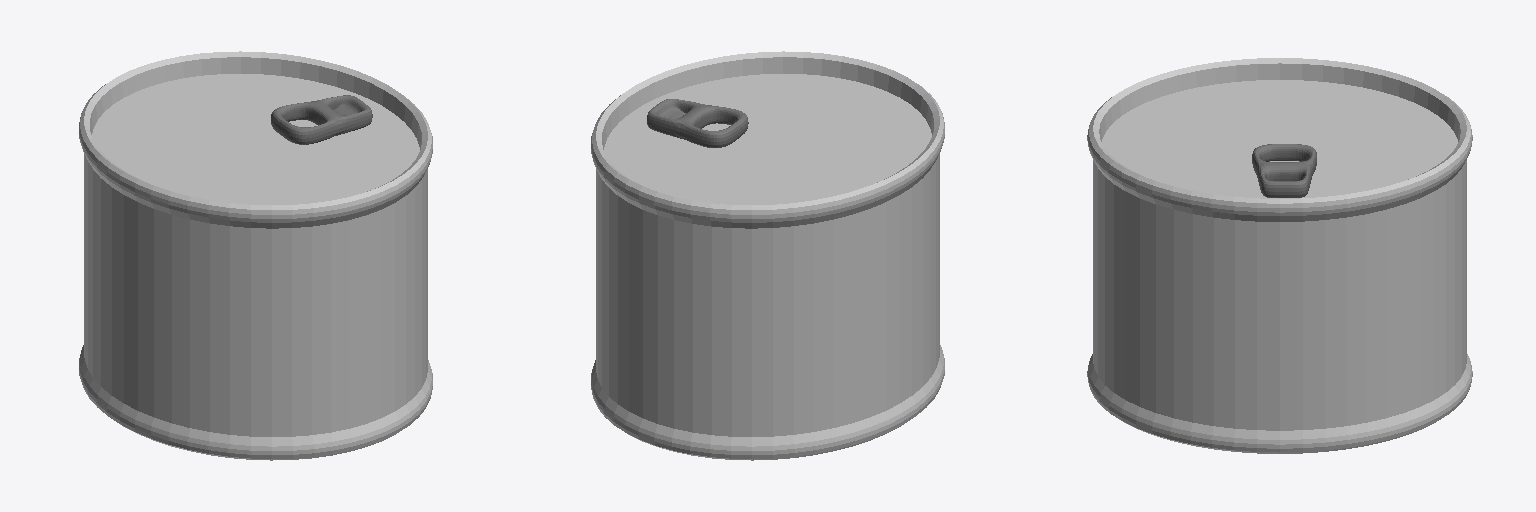
The picture shows the model from 3 angles: view 1: azimuth 30°, elevation 25°; view 2: azimuth 150°, elevation 25°; view 3: azimuth 270°, elevation 25°; orthographic projection.
Parts seen in each view (by area): view 1: tuna_can_tab_Mesh.007; view 2: tuna_can_tab_Mesh.007; view 3: tuna_can_tab_Mesh.007.
Boxes of the visible parts, x1=… form: tuna_can_tab_Mesh.007: x1=79, y1=51, x2=432, y2=460; tuna_can_tab_Mesh.007: x1=591, y1=51, x2=944, y2=460; tuna_can_tab_Mesh.007: x1=1087, y1=58, x2=1472, y2=453.
Size of the model in its own units: 3.99 by 3.27 by 4.48.